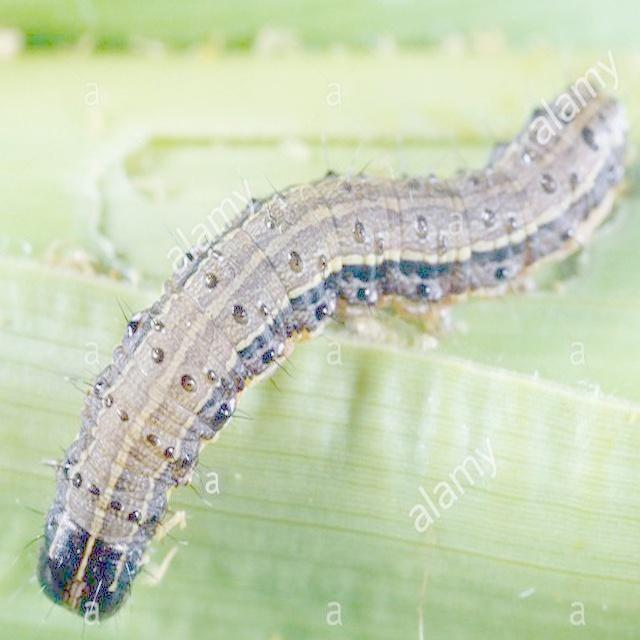gusano_cogollero: (33, 58, 615, 615)
